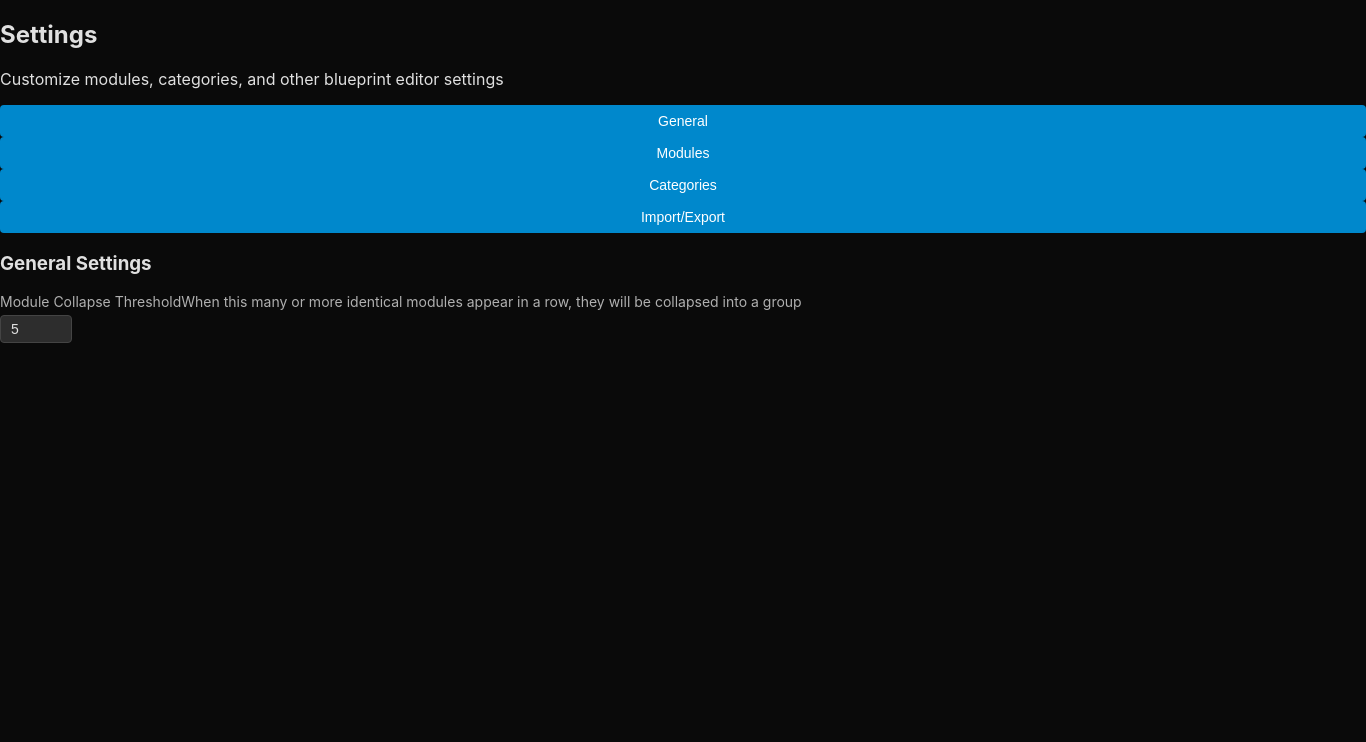
Scenario: SettingsPage › should display correct tab content
The width and height of the screenshot is (1366, 742).
Test Modules tab
Click the button "Modules" at (683, 153), box [0,137,1365,169]
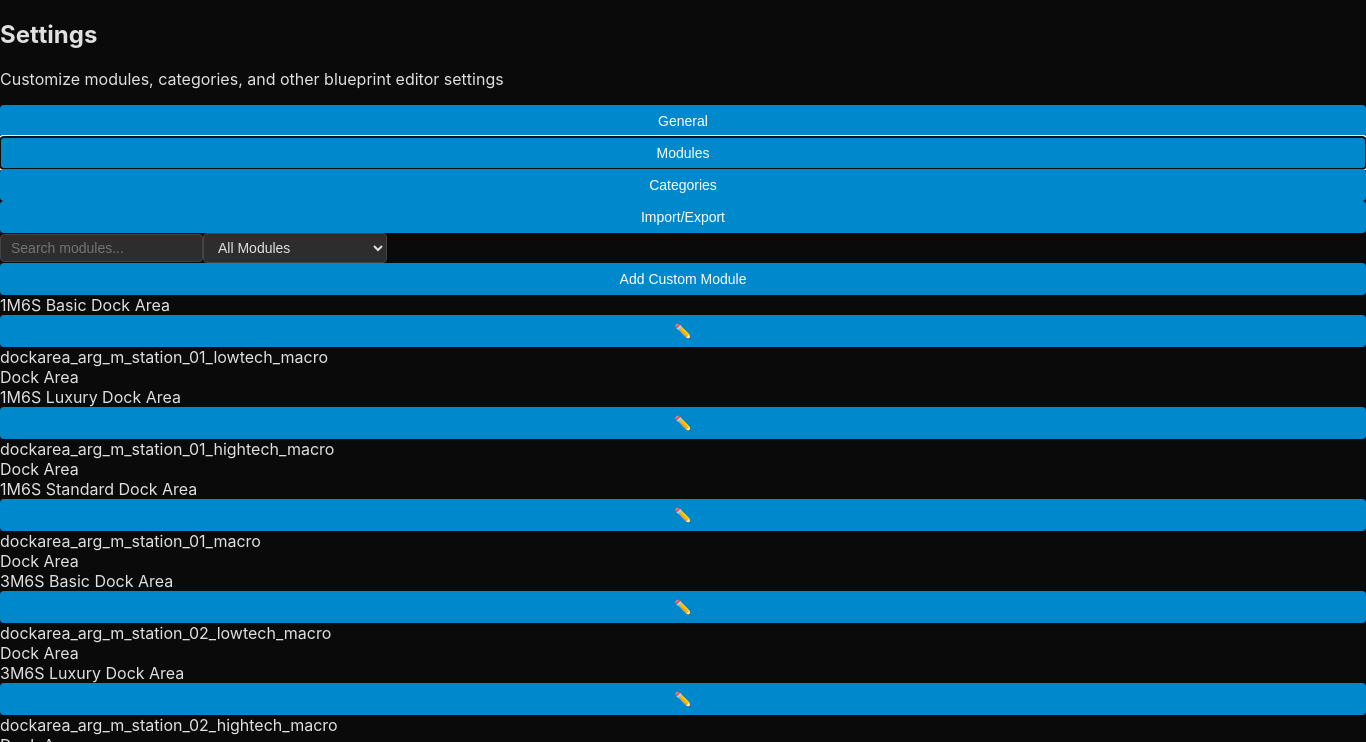
Expected: the button "Add Custom Module" is shown, [0,263,1365,295]
Test Categories tab
Click the button "Categories" at (683, 185), box [0,169,1365,201]
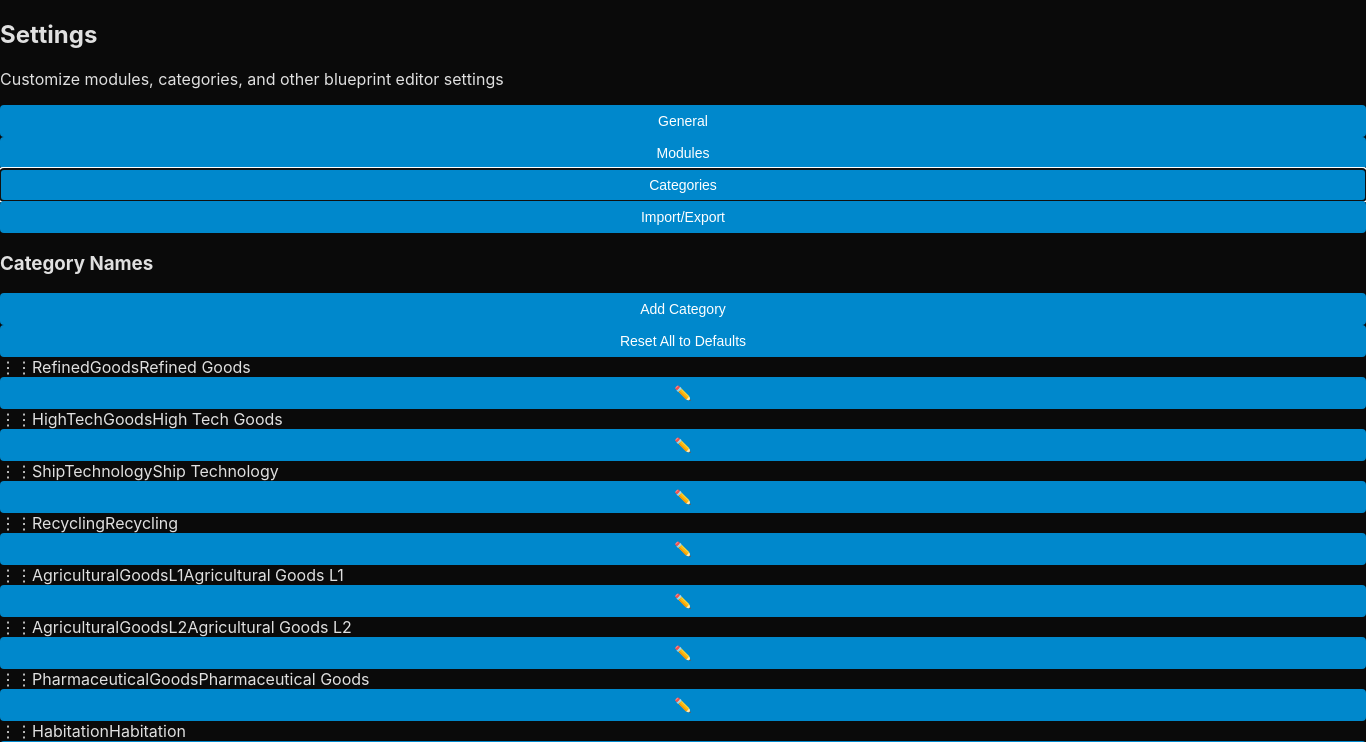
Expected: the button "Add Category" is shown, [0,293,1365,325]
Test Import/Export tab
Click the button "Import/Export" at (683, 217), box [0,201,1365,233]
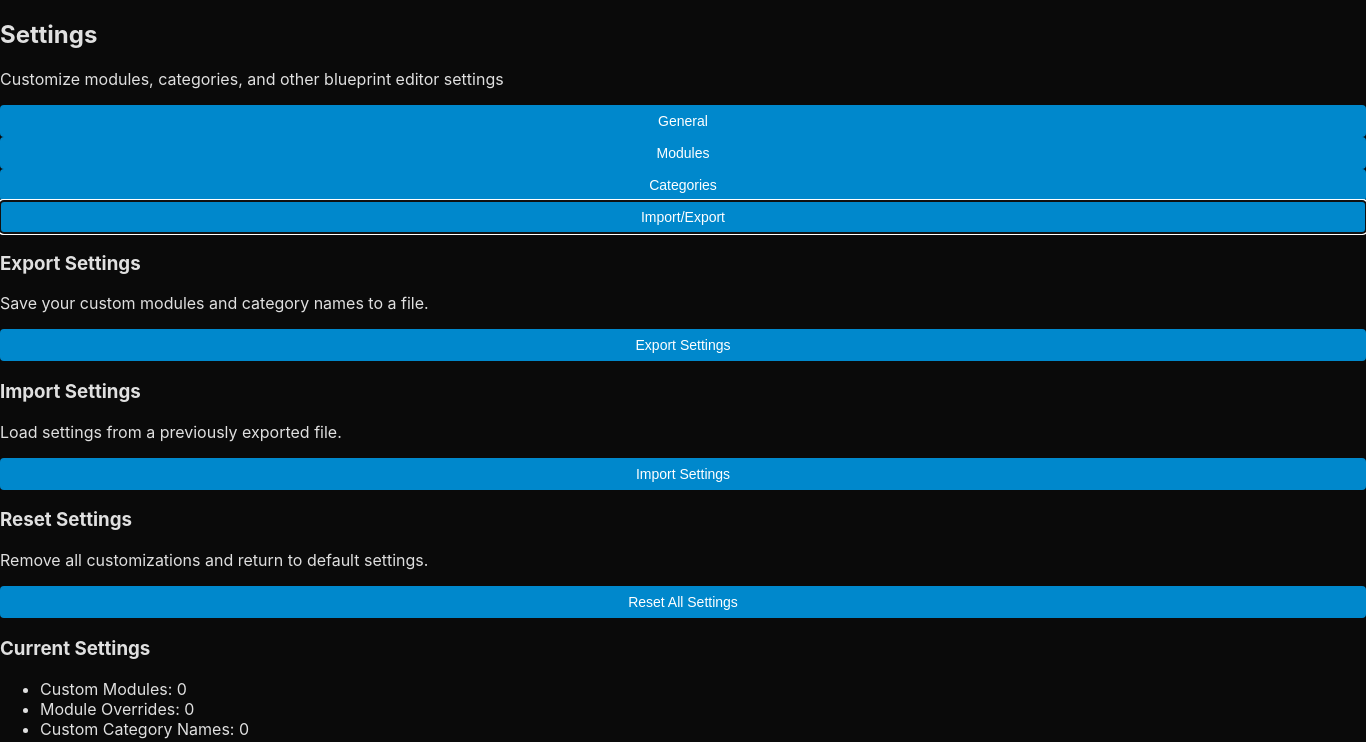
Expected: the number of headings "Export Settings" is 2, [0,252,141,274]; [0,329,1365,361]
Expected: the number of headings "Import Settings" is 2, [0,380,141,403]; [0,458,1365,490]
Expected: the button "Reset All Settings" is shown, [0,586,1365,618]
